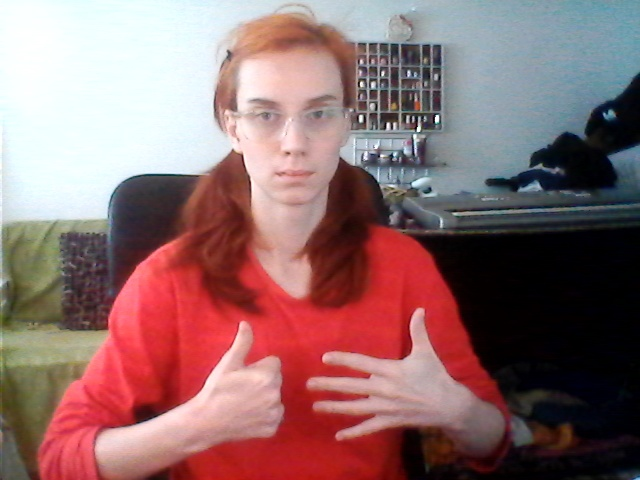sest: (205, 303, 459, 458)
